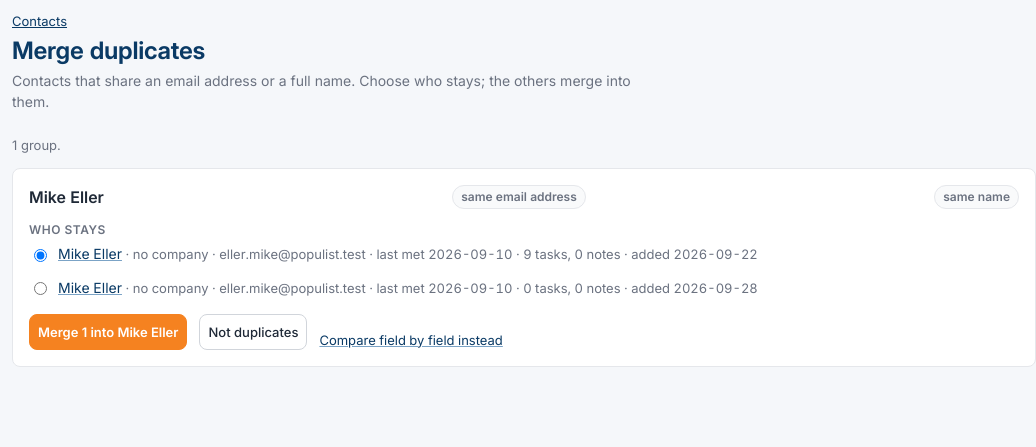
it: merge duplicates (owner, 2026-09-29) › merges the rest into the chosen survivor in one click
The width and height of the screenshot is (1036, 447).
Click the radio button named "added 2026-09-28" at (40, 289), box [34, 282, 47, 295]
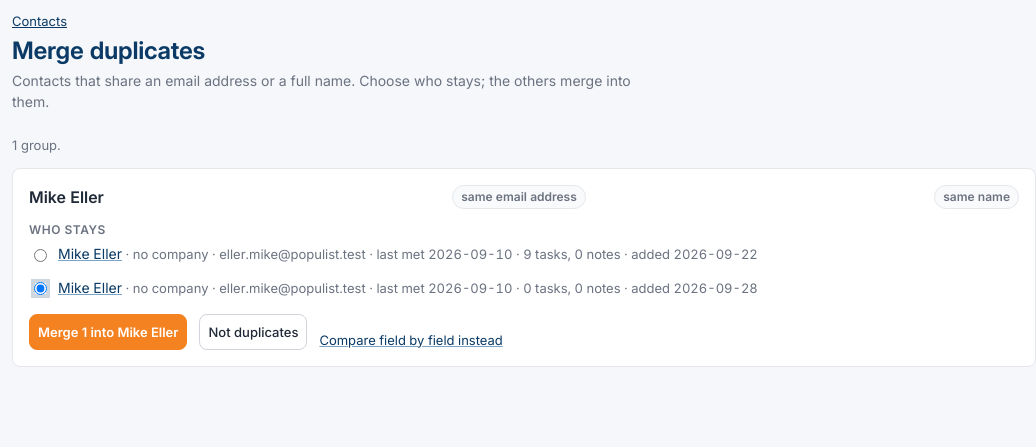
Click the button with aria-label "Merge into Mike Eller (a)" at (108, 332), box [29, 314, 188, 350]
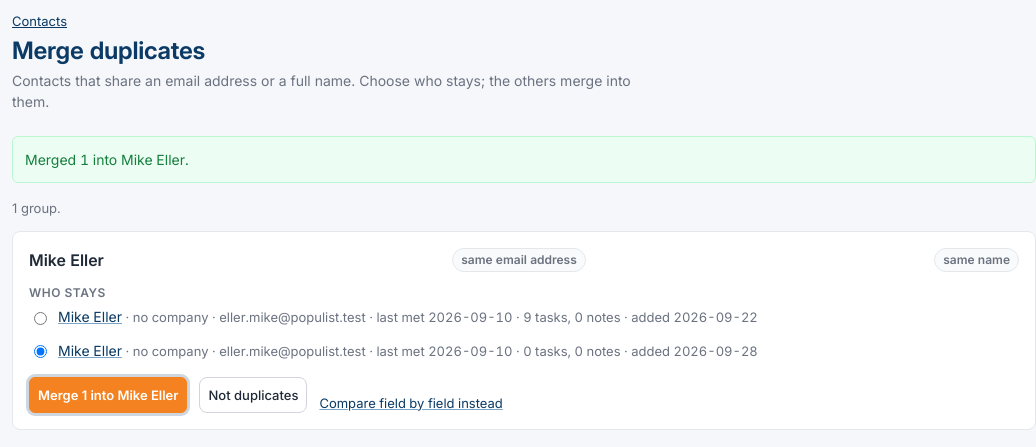
Expected: the text "Merged 1 into Mike Eller." is shown, [25, 150, 189, 168]
